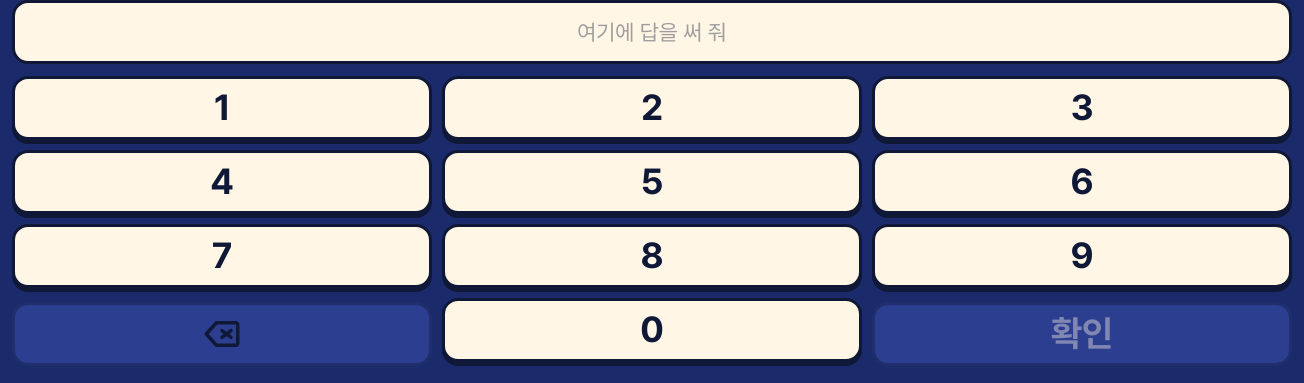
NumPad › 0 하나만 쓸 수도 있다
What coordinates should you click on to do the following:
click the button "0"
I would click on:
 (652, 330)
Its box is [442,298,862,362].
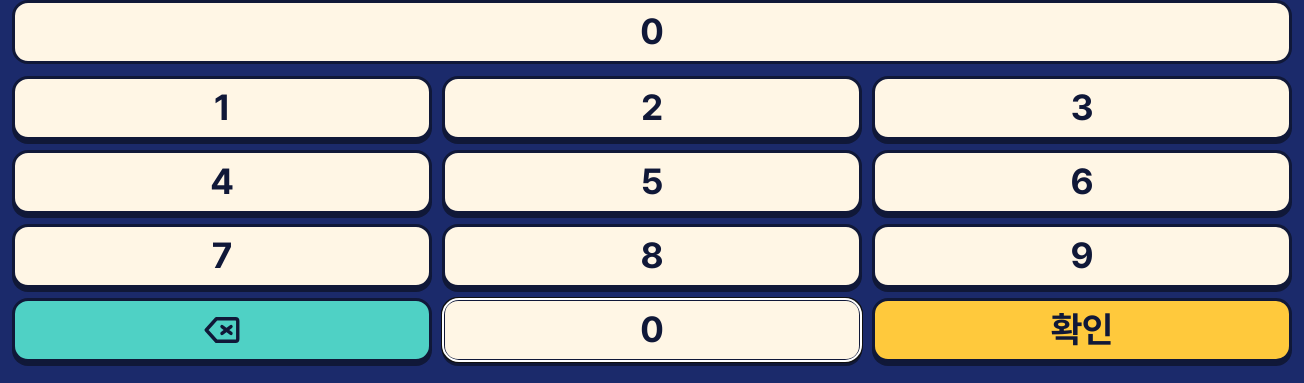
Check: the element named "내가 쓴 답" reads "0", box [640,10,664,53]
Check: the button "확인" is enabled, box [872,298,1292,362]
